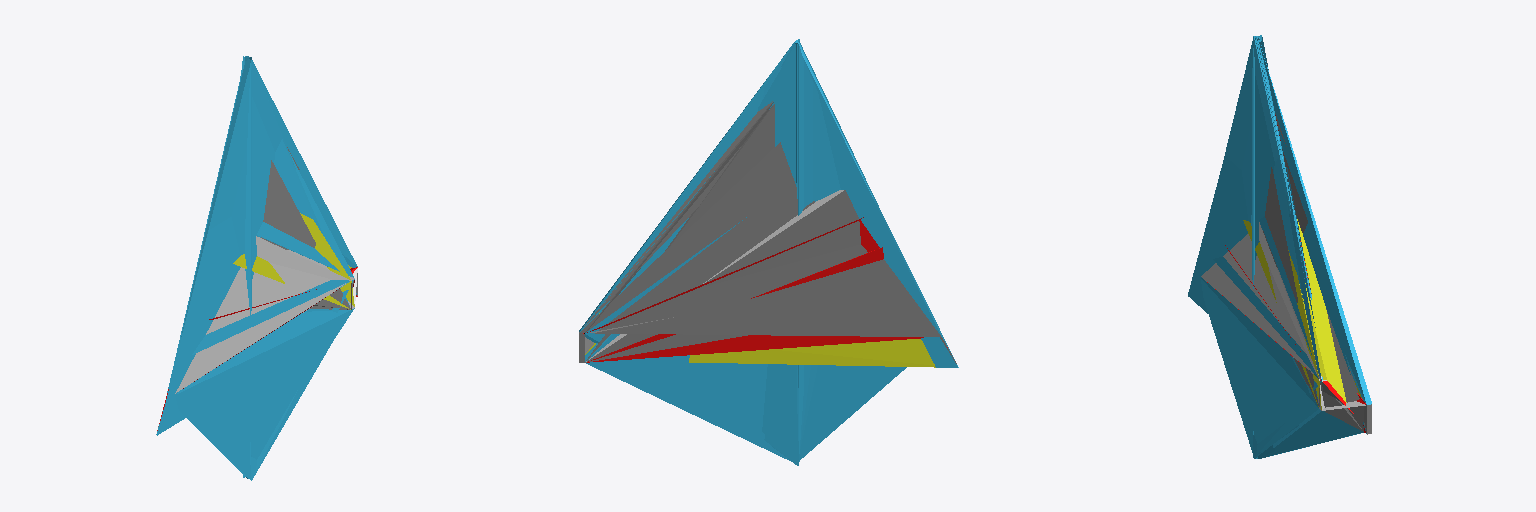
The model's file is Sailboat.obj.
3 renders of one model, left to right at view 1: azimuth 30°, elevation 25°; view 2: azimuth 150°, elevation 25°; view 3: azimuth 270°, elevation 25°, orthographic.
Parts seen in each view (by area): view 1: Box20180, Box20184, Cylinder002, Box20179; view 2: Box20184, Box20180, Box20179, Cylinder002; view 3: Box20180, Box20184, Box20179, Cylinder002.
Part boxes in pixels (x1,y1,x2,y2): Box20180: (156, 56, 357, 480); Box20184: (175, 236, 357, 393); Cylinder002: (158, 147, 353, 426); Box20179: (157, 213, 357, 430); Box20184: (579, 142, 940, 362); Box20180: (579, 39, 958, 465); Box20179: (585, 217, 947, 367); Cylinder002: (584, 101, 956, 363); Box20180: (1188, 35, 1371, 458); Box20184: (1201, 222, 1365, 432); Box20179: (1225, 115, 1365, 409); Cylinder002: (1263, 113, 1365, 431).
Size of the model in its own units: 441 by 612 by 243.